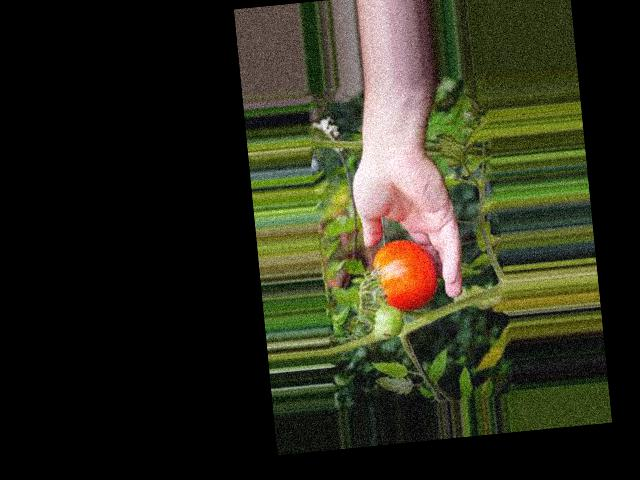tomato: (369, 236, 440, 315)
